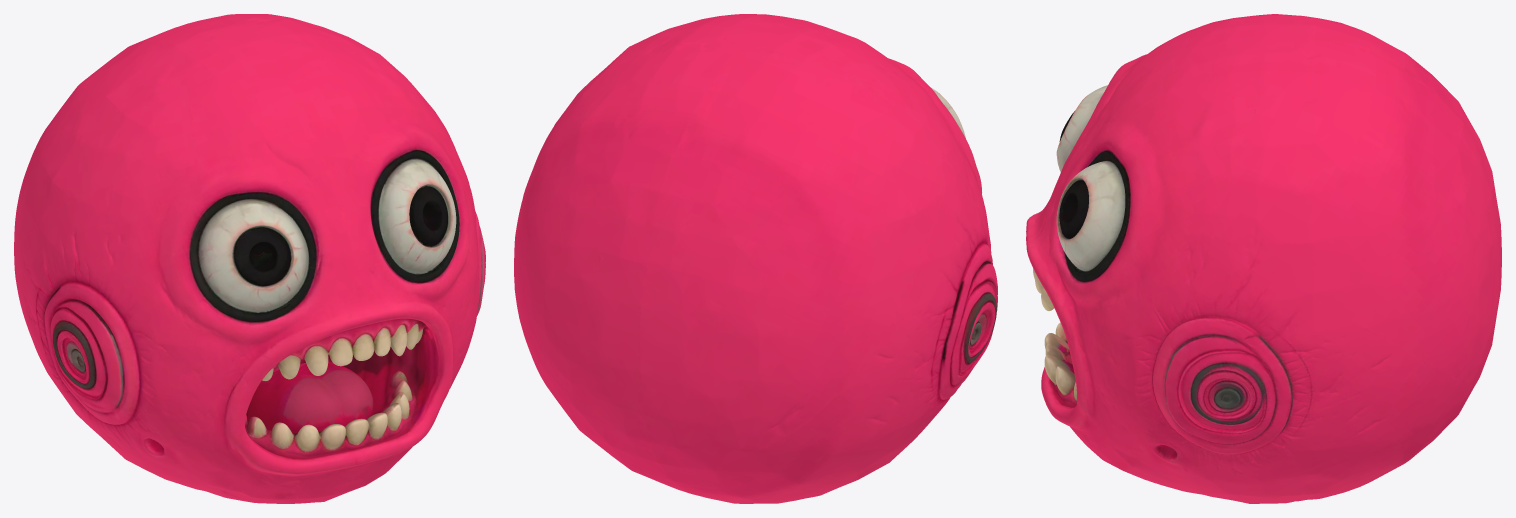
Rendered from zombie.glb.
The picture shows the model from 3 angles, left to right: view 1: azimuth 30°, elevation 25°; view 2: azimuth 150°, elevation 25°; view 3: azimuth 270°, elevation 25°; orthographic projection. The views are drawn at different scales.
Bounding box in the file's own units: 1.87 × 1.9 × 1.85.
Materials: 1 (1 with a texture image).
